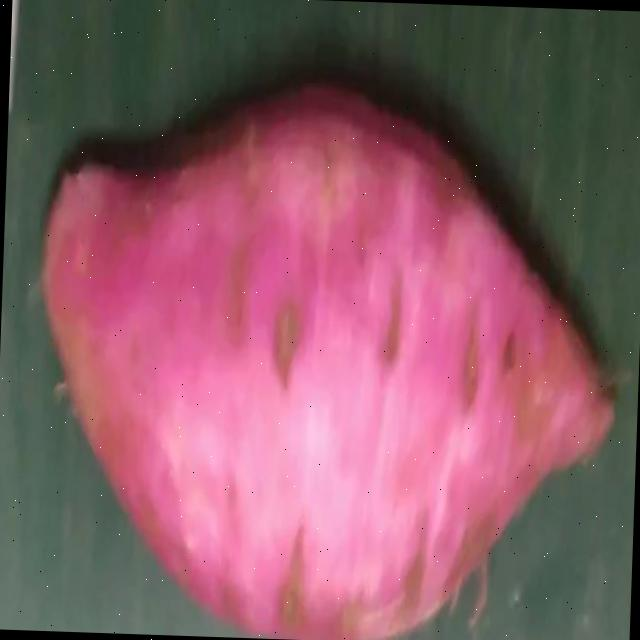Sweet Potato: (37, 81, 616, 640)
